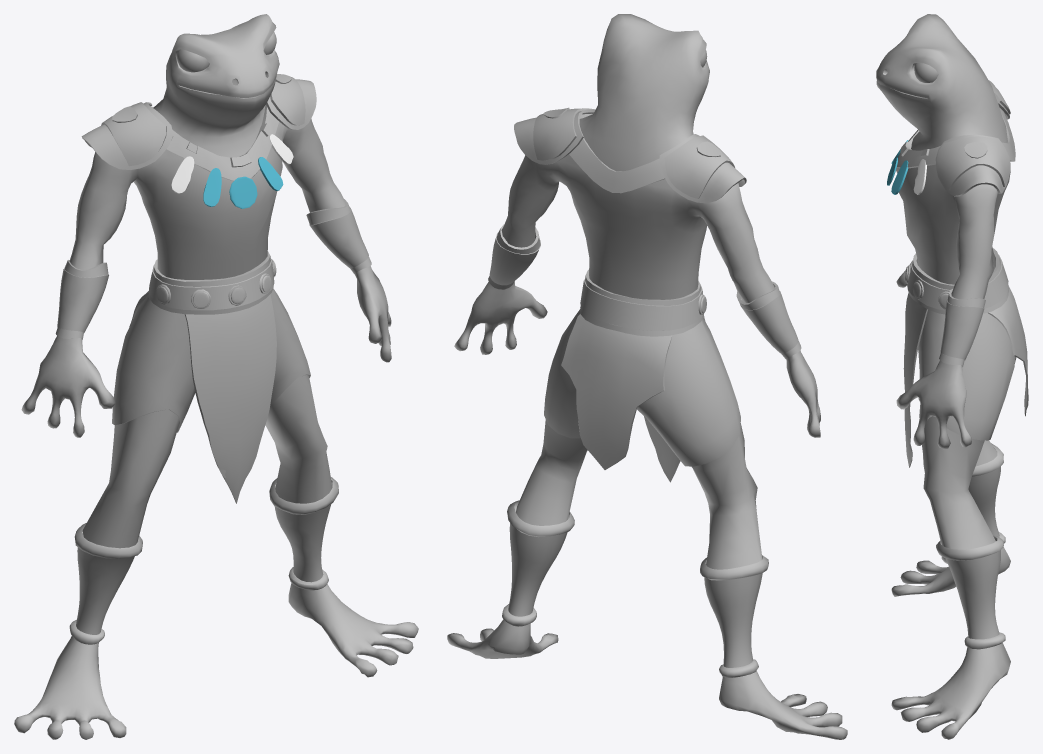
The model's file is scaletry4.fbx.
3 views of the same model, side by side, from view 1: azimuth 30°, elevation 25°; view 2: azimuth 150°, elevation 25°; view 3: azimuth 270°, elevation 25° (orthographic). The views are drawn at different scales.
Visible parts, largest first — view 1: body_low, front_loincloth_low, pants_low, shin_guard_low, pauldron_low, armor_sleeves_low, belt_low, neck_accs_low, neck_piece_low, belt_small_low, eyes_low; view 2: body_low, pants_low, back_loincloth_low, shin_guard_low, pauldron_low, belt_low, armor_sleeves_low, neck_piece_low, front_loincloth_low; view 3: body_low, pants_low, shin_guard_low, pauldron_low, armor_sleeves_low, belt_low, front_loincloth_low, back_loincloth_low, neck_piece_low, neck_accs_low, eyes_low, shoulder_accs_low.
Part boxes in pixels (box(x1,y1,x2,y2)): body_low: box(14, 14, 418, 739); front_loincloth_low: box(185, 294, 276, 503); pants_low: box(112, 288, 310, 432); shin_guard_low: box(69, 477, 338, 644); pauldron_low: box(81, 77, 316, 169); armor_sleeves_low: box(55, 199, 371, 339); belt_low: box(148, 251, 274, 314); neck_accs_low: box(171, 134, 293, 208); neck_piece_low: box(151, 105, 278, 180); belt_small_low: box(156, 259, 276, 307); eyes_low: box(177, 32, 276, 72); body_low: box(447, 14, 847, 739); pants_low: box(544, 309, 740, 466); back_loincloth_low: box(561, 314, 672, 469); shin_guard_low: box(502, 500, 768, 677); pauldron_low: box(514, 108, 746, 203); belt_low: box(580, 269, 703, 336); armor_sleeves_low: box(488, 224, 801, 359); neck_piece_low: box(569, 114, 664, 193); front_loincloth_low: box(644, 316, 705, 482); body_low: box(876, 14, 1010, 739); pants_low: box(918, 310, 1016, 440); shin_guard_low: box(936, 443, 1005, 649); pauldron_low: box(935, 80, 1010, 196); armor_sleeves_low: box(939, 289, 985, 366); belt_low: box(907, 247, 1008, 314); front_loincloth_low: box(903, 293, 927, 467); back_loincloth_low: box(988, 286, 1028, 416); neck_piece_low: box(897, 108, 1015, 168); neck_accs_low: box(887, 140, 926, 194); eyes_low: box(914, 63, 938, 82); shoulder_accs_low: box(964, 142, 987, 158).
Size of the model in its own units: 126 by 200 by 44.59.
